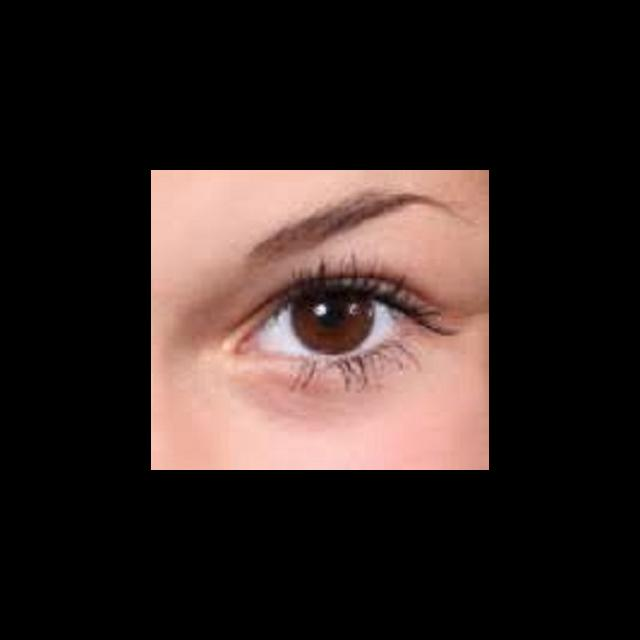eye: (257, 294, 404, 360)
iris: (291, 296, 375, 356)
